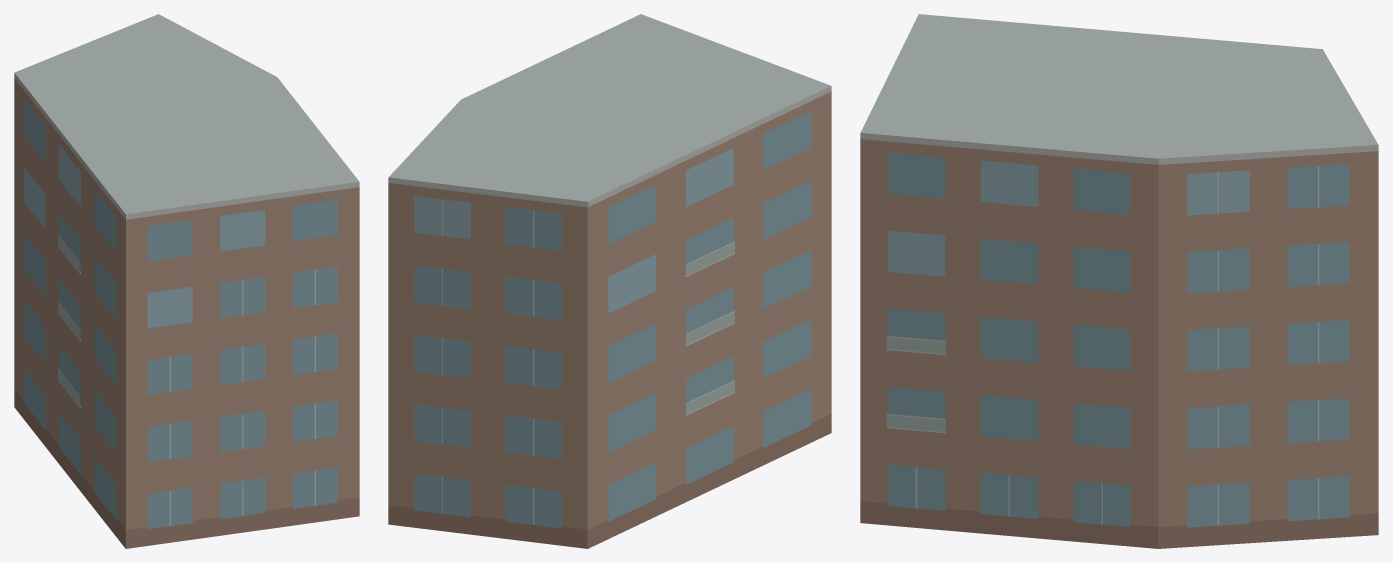
File: survey-upis-33016614.glb
3 views of the same model, side by side, from view 1: azimuth 30°, elevation 25°; view 2: azimuth 150°, elevation 25°; view 3: azimuth 270°, elevation 25° (orthographic). The views are drawn at different scales.
Parts seen in each view (by area): view 1: survey-upis-33016614.tmp; view 2: survey-upis-33016614.tmp; view 3: survey-upis-33016614.tmp.
Boxes of the visible parts, x1,y1,x2,y2 form: survey-upis-33016614.tmp: (14,14,359,548); survey-upis-33016614.tmp: (388,14,831,548); survey-upis-33016614.tmp: (860,14,1378,548).
Bounding box in the file's own units: 12.14 × 15.25 × 18.37.
